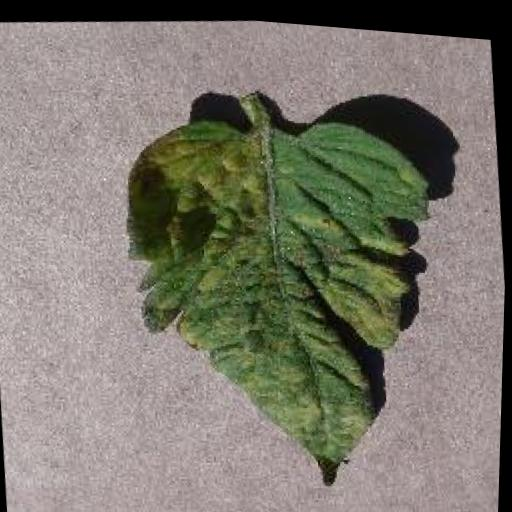Leaf Mold: (111, 91, 452, 508)
